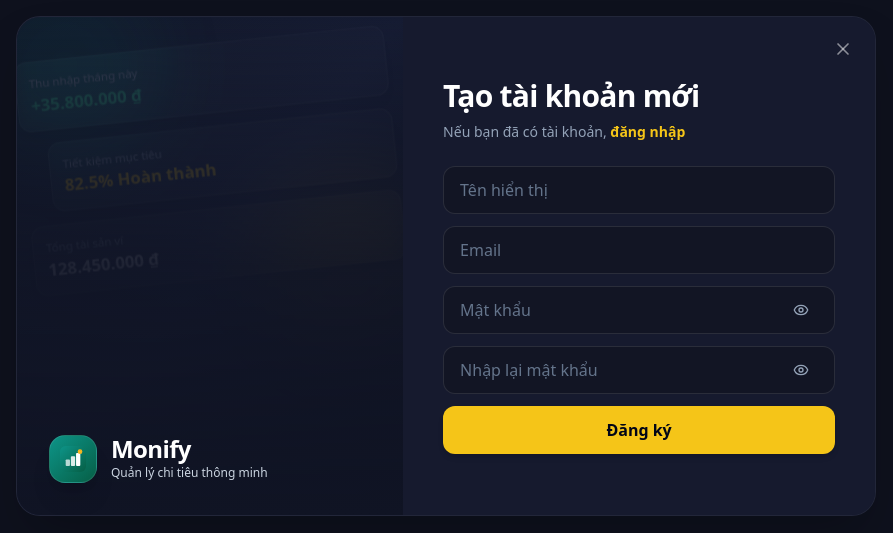
Test: LoginPage Component Test › hiển thị thông báo lỗi khi đăng ký với mật khẩu không khớp
This screenshot has width=893, height=533.
Type "Nguyễn Văn A" into the field labelled "Tên hiển thị" at (639, 190), box [443, 166, 835, 214]
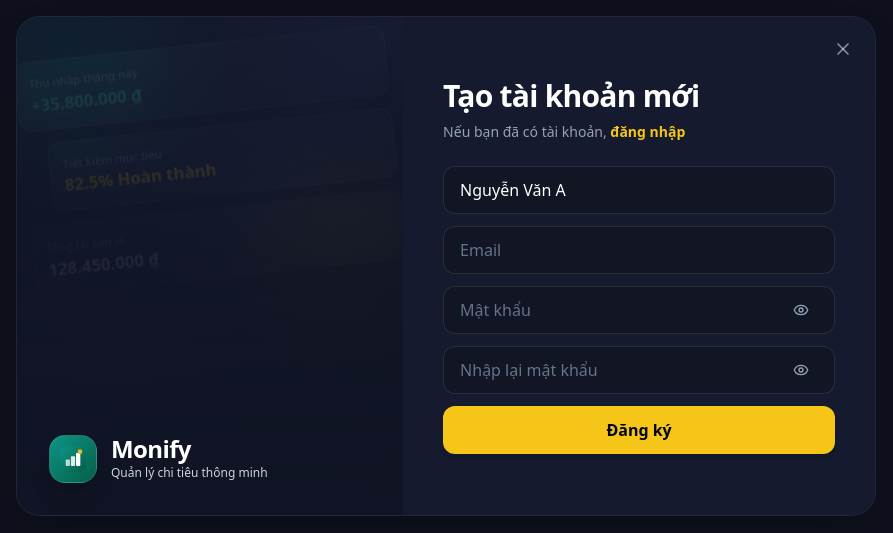
Type "test@example.com" into the field labelled "Email" at (639, 250), box [443, 226, 835, 274]
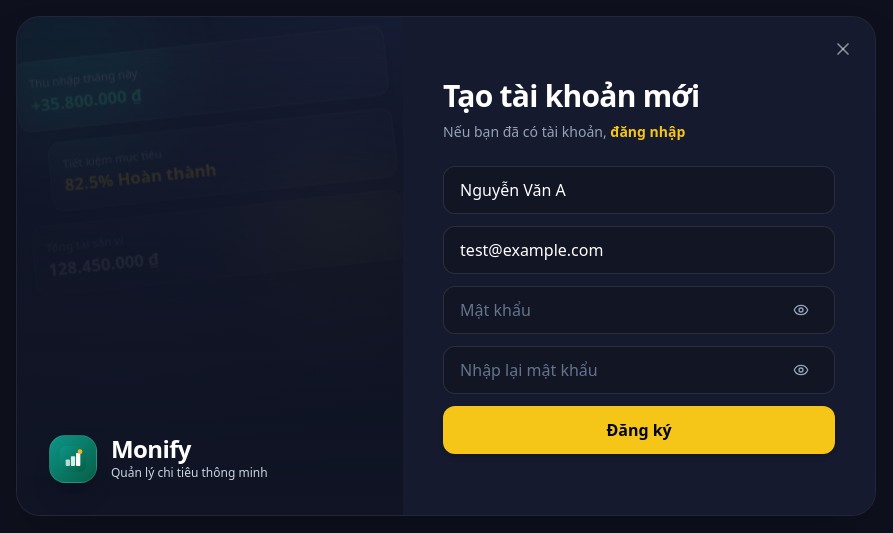
Type "123456" into the password field labelled "Mật khẩu" at (639, 310), box [443, 286, 835, 334]
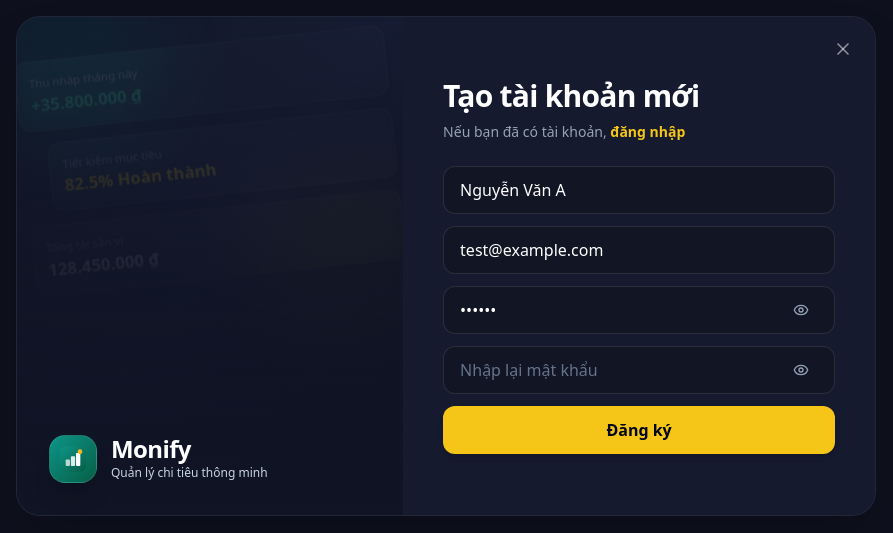
Type "654321" into the password field labelled "Nhập lại mật khẩu" at (639, 370), box [443, 346, 835, 394]
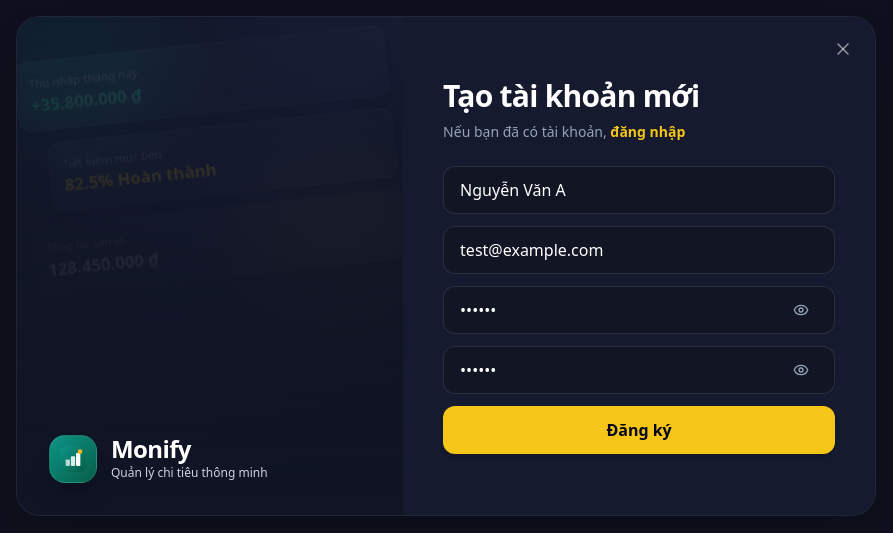
Click the button "Đăng ký" at (639, 430), box [443, 406, 835, 454]
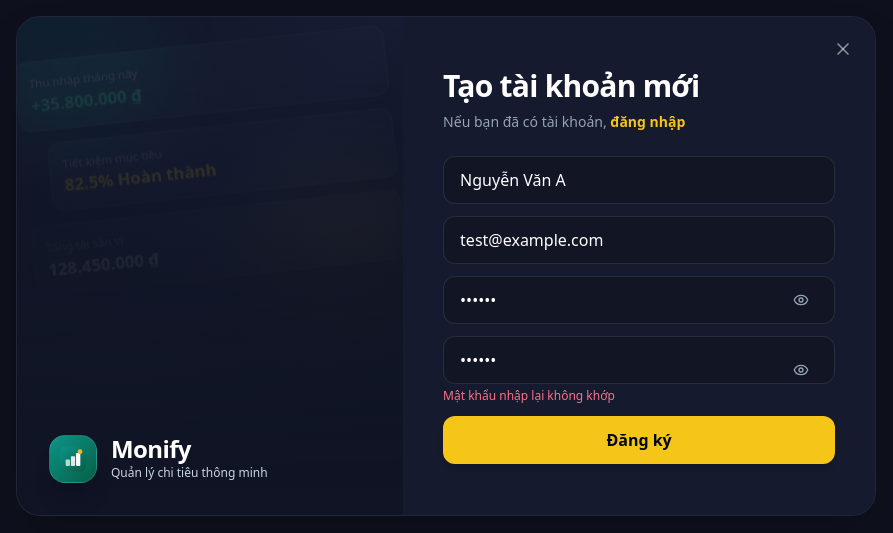
Check: the text "Mật khẩu nhập lại không khớp" is shown, box [443, 387, 615, 404]
